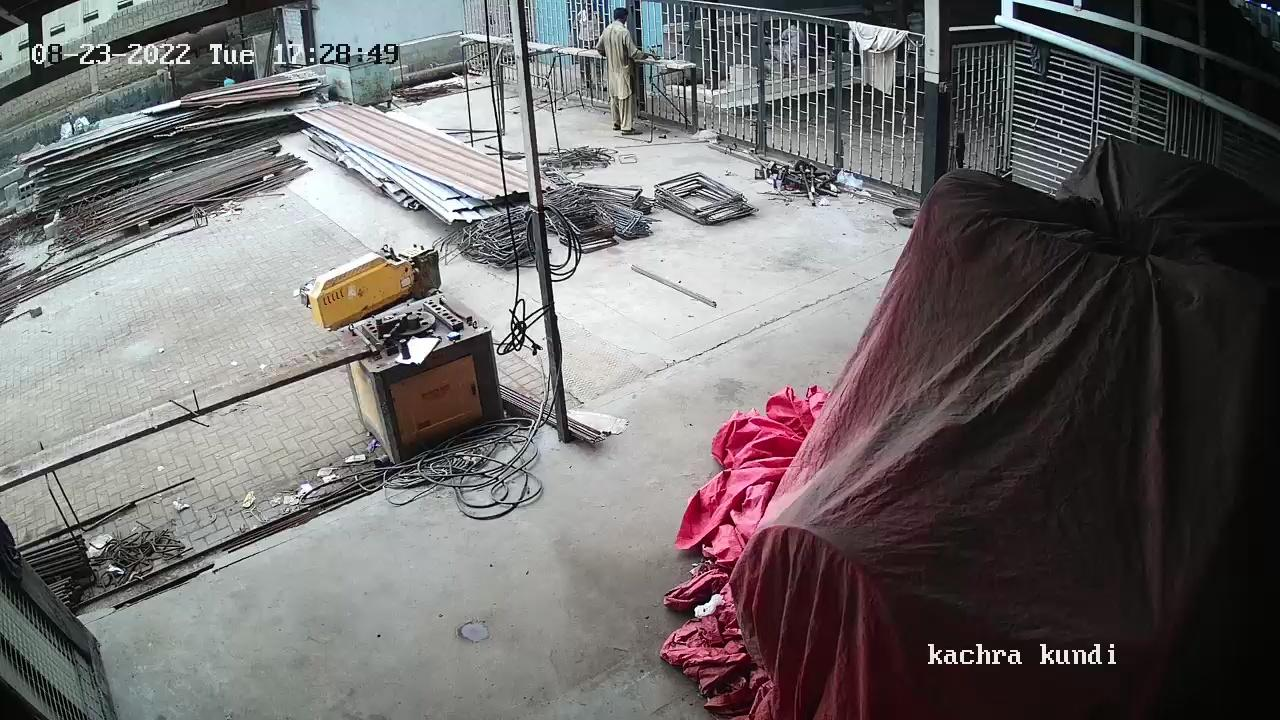person: (591, 8, 644, 135)
